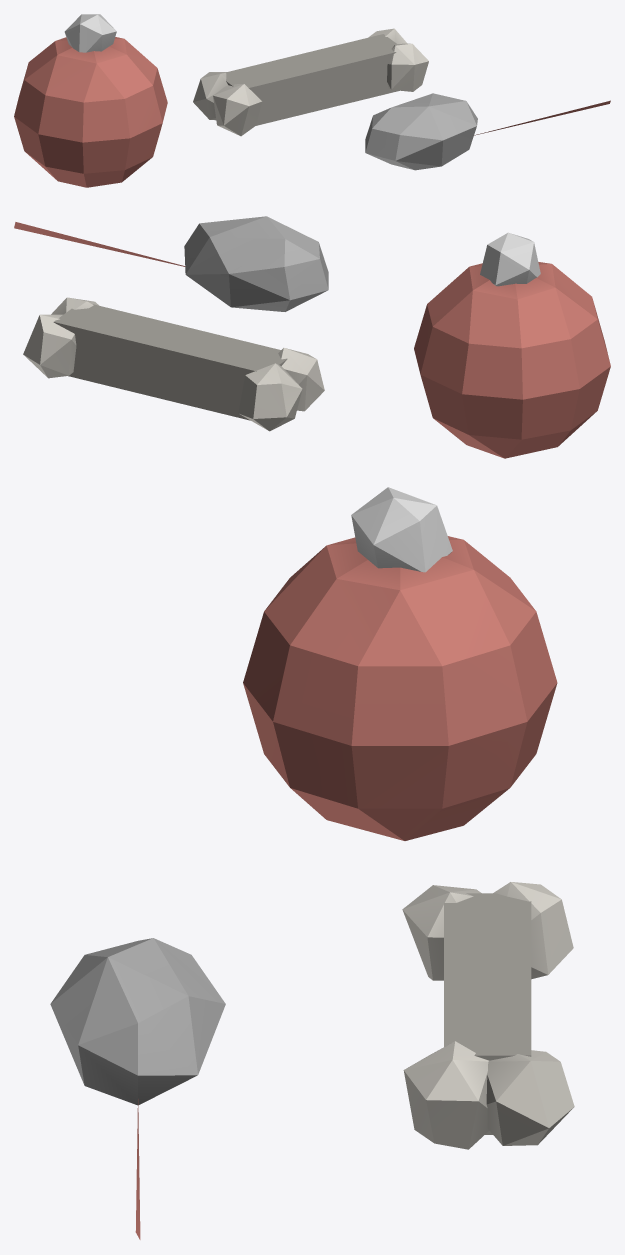
Rendered from petshop_toys_low.glb.
The picture shows the model from 3 angles, top to bottom: view 1: azimuth 30°, elevation 25°; view 2: azimuth 150°, elevation 25°; view 3: azimuth 270°, elevation 25°; orthographic projection. The views are drawn at different scales.
Bounding box in the file's own units: 0.6856 × 0.2099 × 0.3001.
